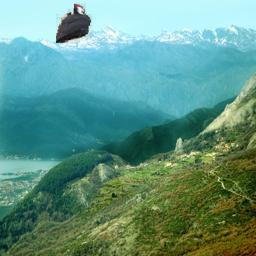Woodpecker: (56, 3, 102, 43)
